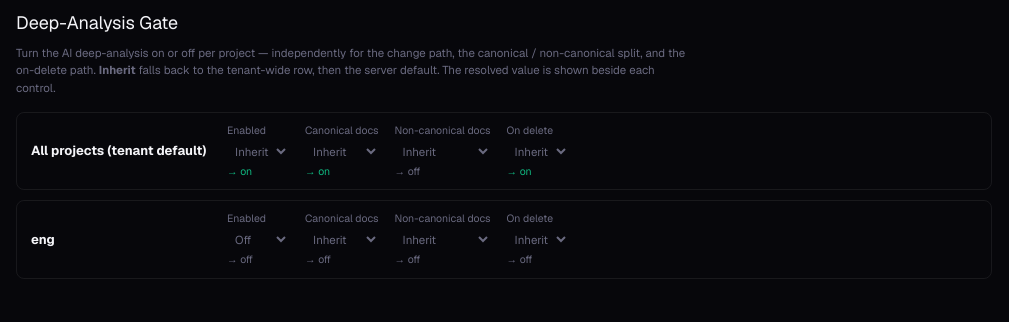
Test case: AnalysisSettingsView › surfaces a mutation error in the DOM (not silent)
The width and height of the screenshot is (1009, 322).
Select "On" in the dropdown with test id "admin-analysis-setting-eng-canonical" at x=342, y=240, box 305,229 -> 378,250
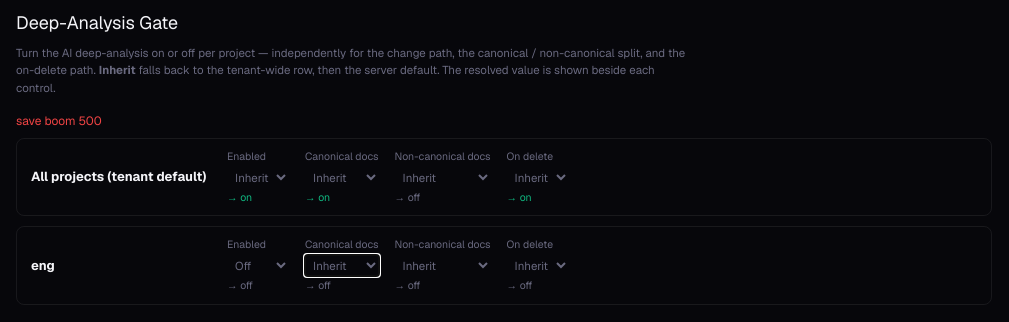
Check: the message with test id "admin-analysis-settings-save-error" reads "save boom 500", box 16,113 -> 102,129
